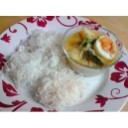idiyappam: (36, 65, 87, 108), (29, 28, 64, 65), (5, 49, 40, 85)
